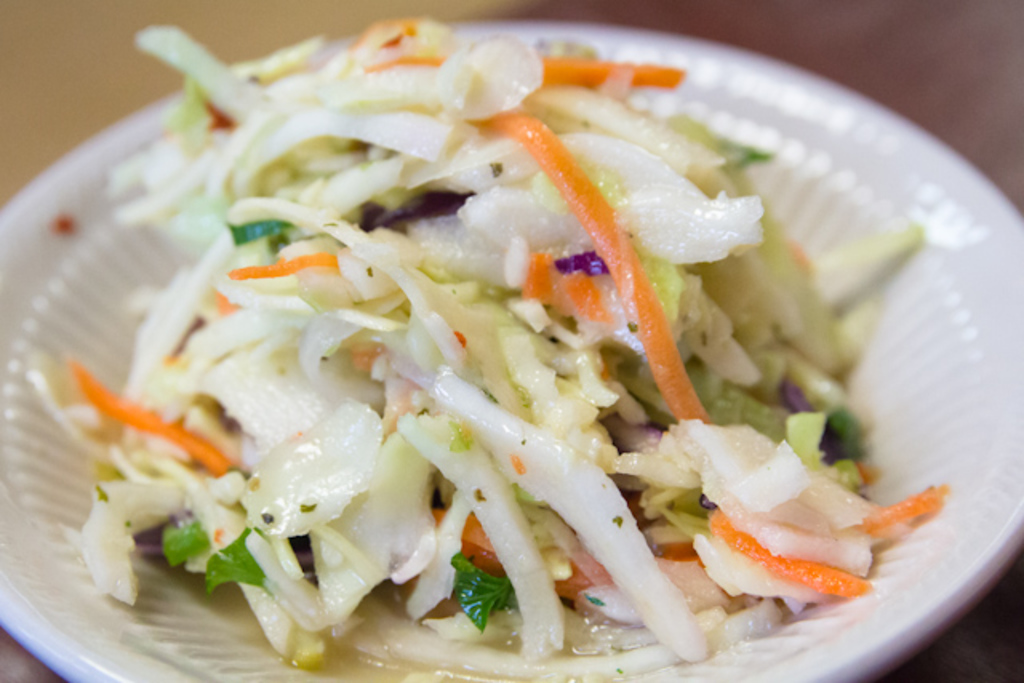Cabbage: (28, 16, 952, 683)
